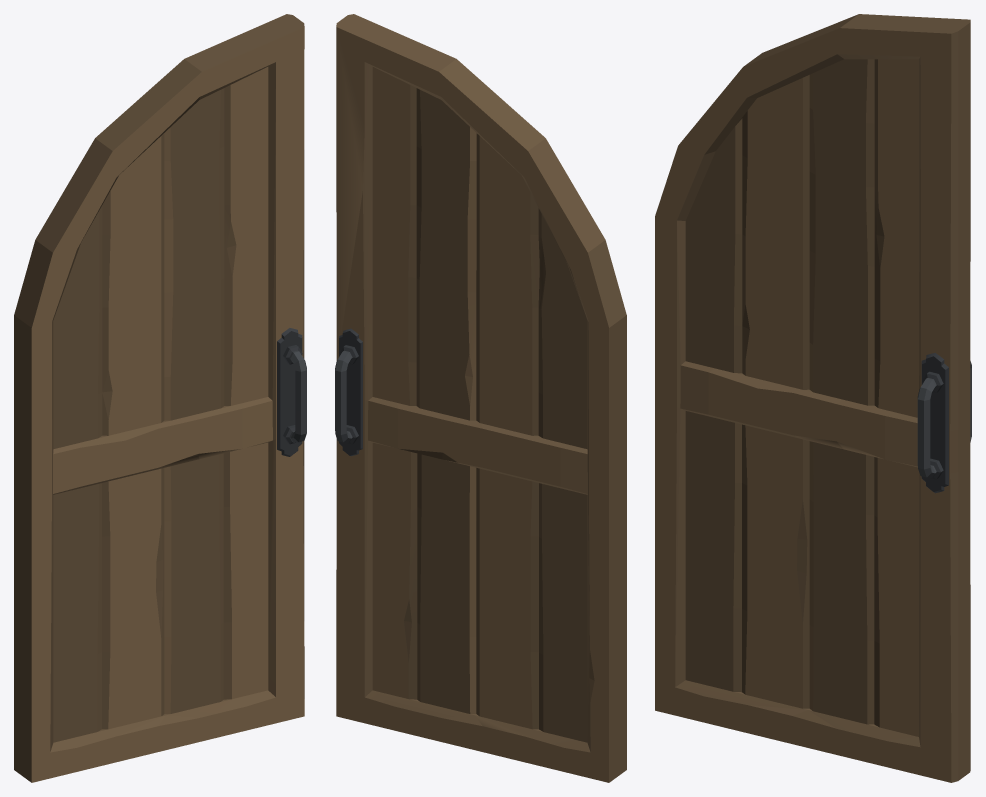
File: SM_Bld_Manor_Door_01.fbx
The picture shows the model from 3 angles, left to right: view 1: azimuth 30°, elevation 25°; view 2: azimuth 150°, elevation 25°; view 3: azimuth 330°, elevation 25°; orthographic projection. The views are drawn at different scales.
Visible parts, largest first — view 1: SM_Bld_Manor_Door_01; view 2: SM_Bld_Manor_Door_01; view 3: SM_Bld_Manor_Door_01.
Boxes of the visible parts, <box> form: SM_Bld_Manor_Door_01: <box>14,14,306,782</box>; SM_Bld_Manor_Door_01: <box>335,14,626,782</box>; SM_Bld_Manor_Door_01: <box>655,14,971,782</box>.
Size of the model in its own units: 108 by 258 by 30.55.
